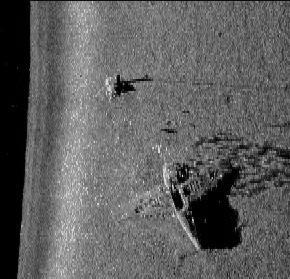ship: (118, 157, 235, 222), (163, 162, 202, 251)
